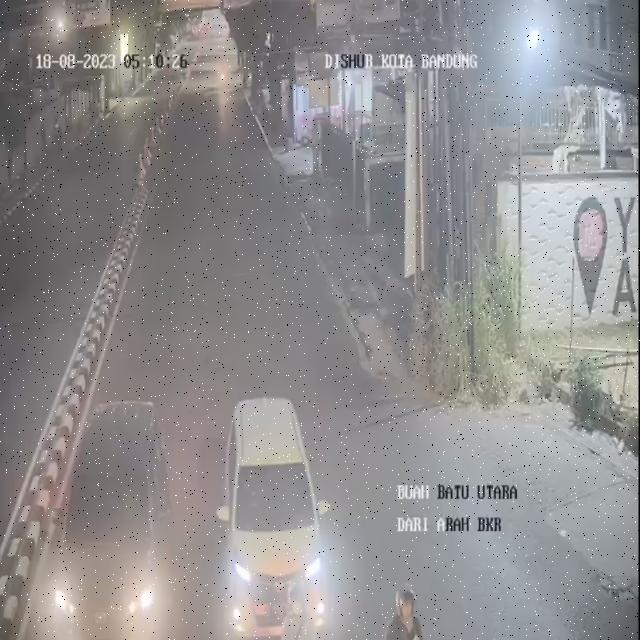cars: (41, 394, 174, 639), (210, 383, 332, 640)
motorcycle: (377, 569, 431, 638)
truck: (326, 0, 454, 39)
